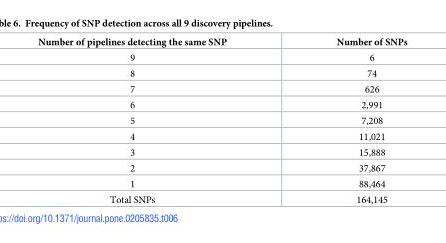table: (37, 36, 406, 204)
table column: (37, 36, 280, 204), (280, 36, 406, 204)
table column header: (37, 36, 406, 49)
table row: (37, 49, 406, 65), (37, 65, 406, 81), (37, 96, 406, 112), (37, 112, 406, 128), (37, 128, 406, 144), (37, 144, 406, 160), (37, 175, 406, 191), (37, 81, 406, 96), (37, 160, 406, 175), (37, 36, 406, 49), (37, 191, 406, 204)
